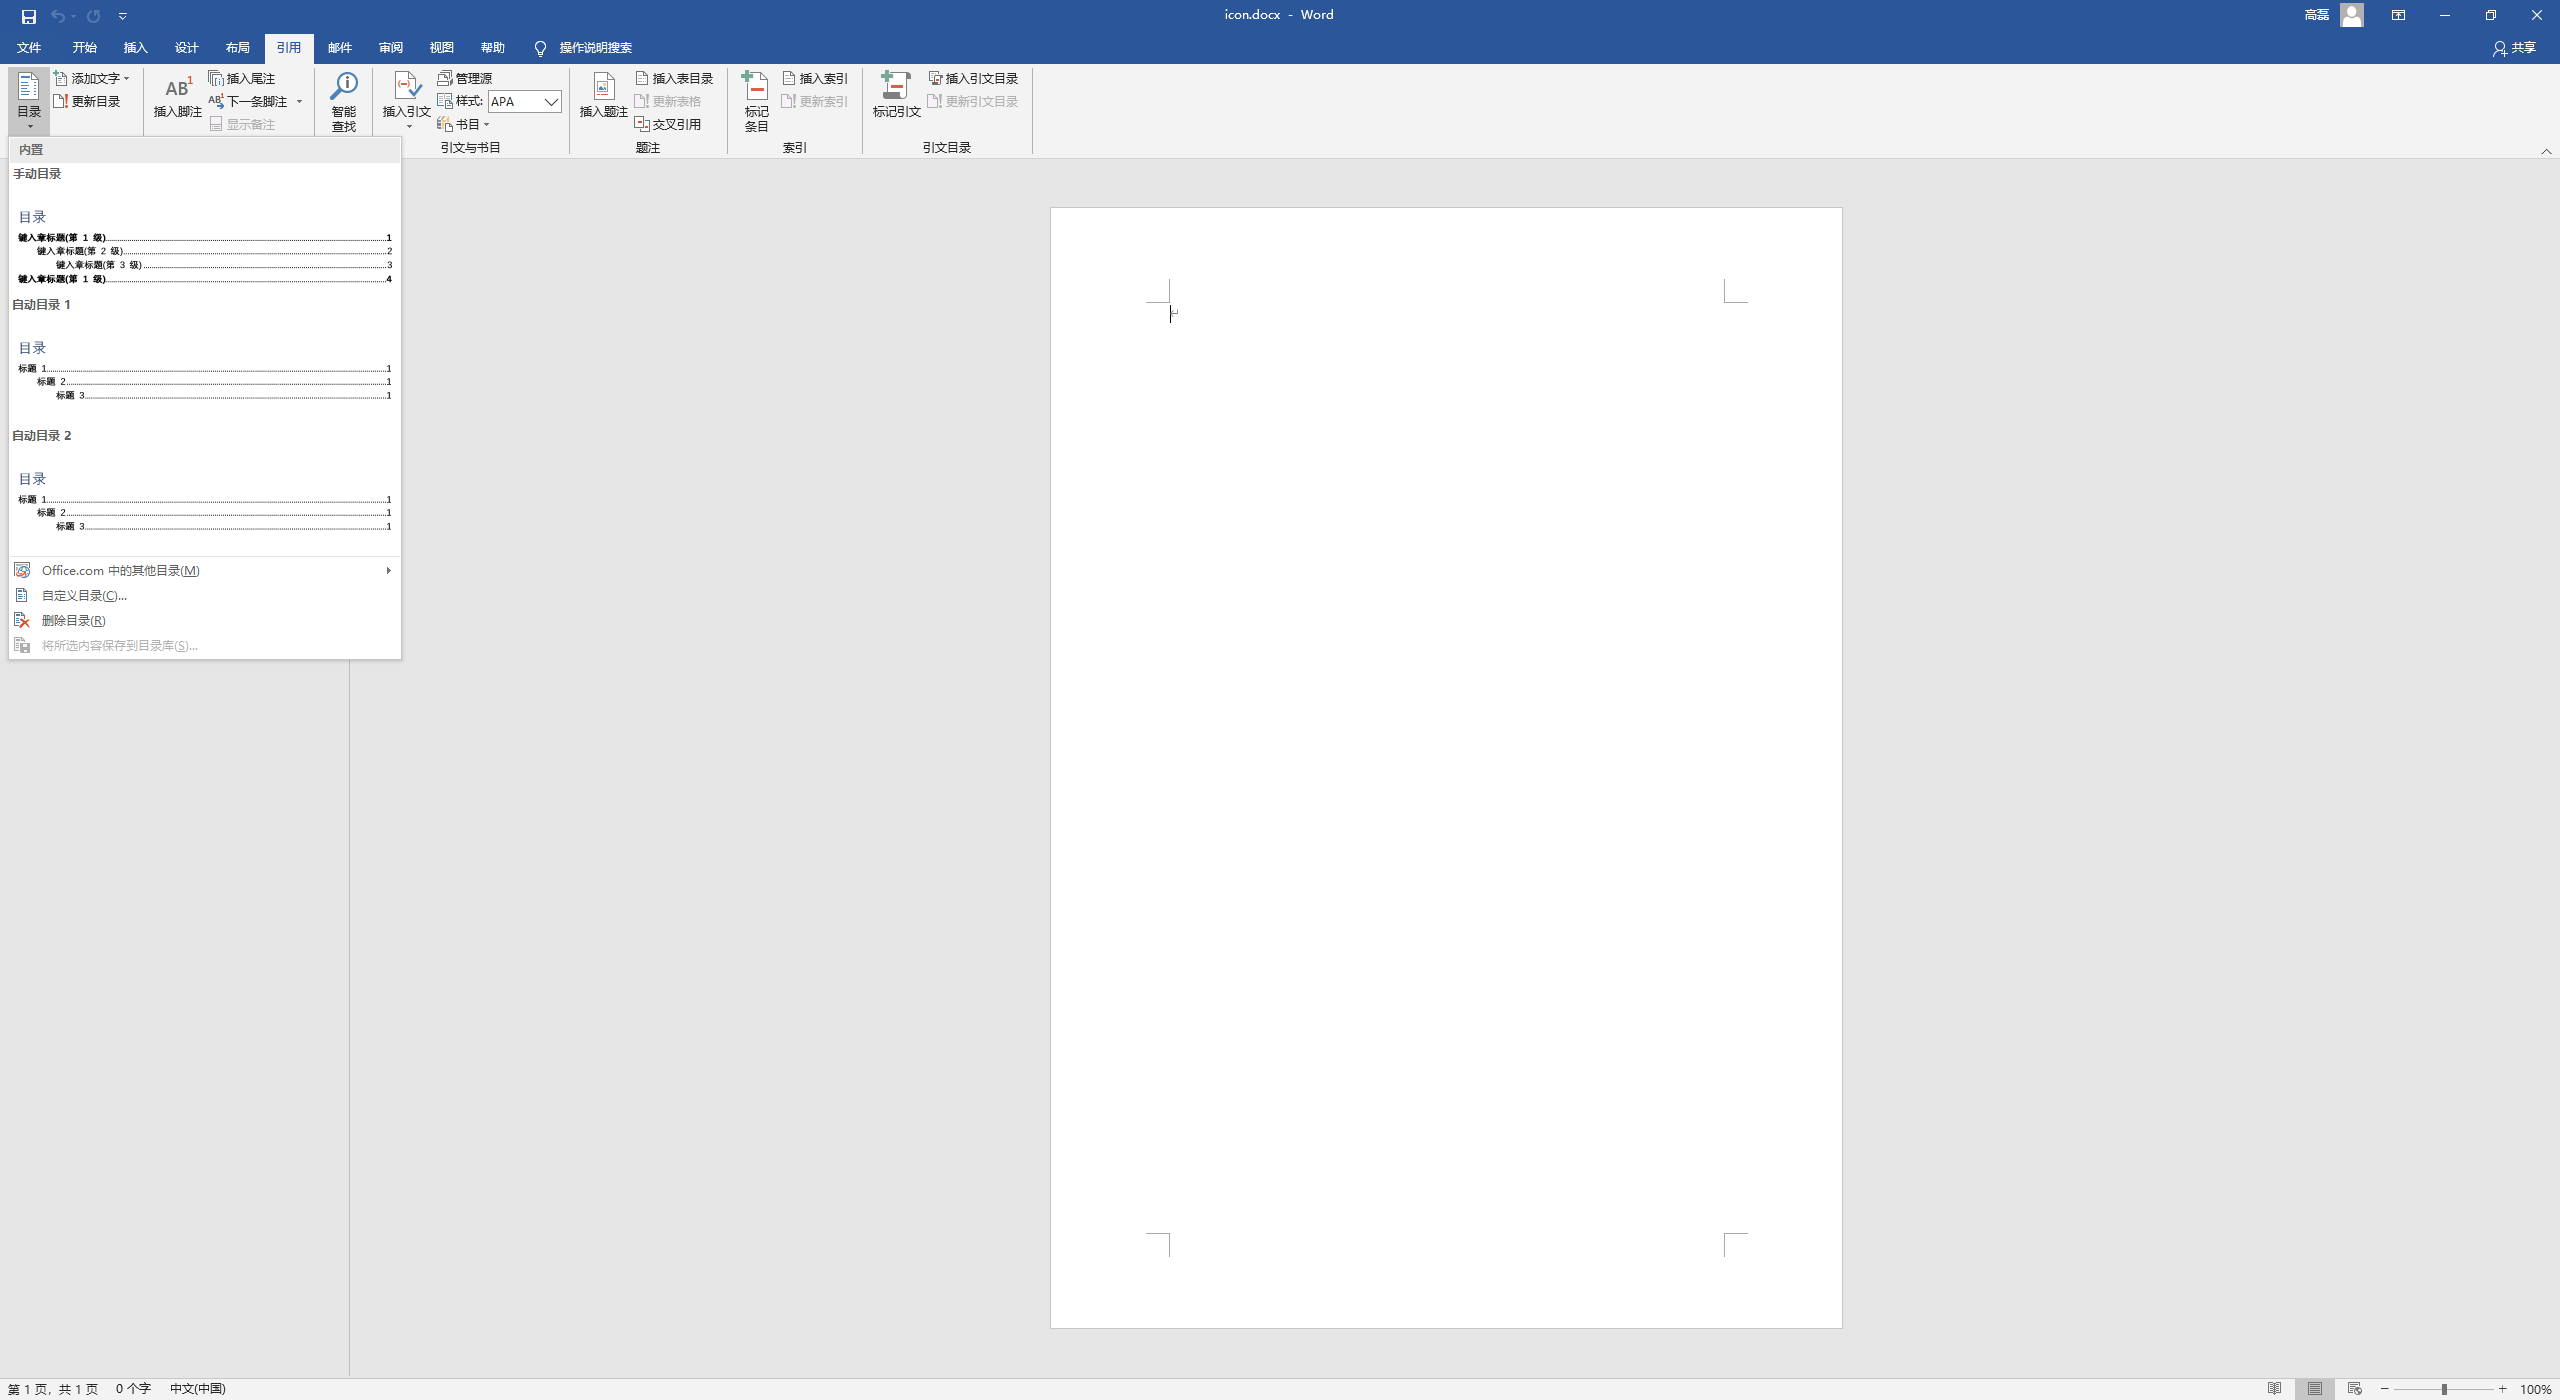character: (16, 471, 395, 536), (17, 233, 396, 286), (17, 362, 396, 405), (5, 1383, 240, 1397), (40, 562, 202, 579), (41, 636, 202, 653), (1222, 5, 1339, 22), (557, 36, 638, 59), (40, 586, 141, 603), (946, 69, 1019, 86), (41, 614, 116, 629), (10, 428, 72, 445), (10, 297, 71, 314), (653, 71, 715, 86), (800, 67, 850, 86), (869, 103, 922, 121), (226, 117, 279, 134), (10, 166, 64, 183), (228, 95, 286, 110), (921, 138, 972, 155), (946, 95, 1019, 107), (328, 105, 359, 133), (745, 103, 772, 134), (152, 103, 202, 119), (228, 71, 278, 86), (578, 103, 628, 119), (71, 71, 119, 86), (72, 93, 121, 109), (440, 141, 502, 153), (653, 117, 702, 133), (655, 95, 703, 109), (800, 95, 848, 109), (457, 71, 495, 86), (381, 105, 429, 117), (17, 209, 48, 226), (16, 340, 48, 355), (426, 40, 457, 55), (121, 38, 148, 55), (2303, 5, 2332, 21), (221, 40, 253, 53), (14, 41, 45, 55), (376, 40, 407, 53), (633, 140, 660, 155), (2520, 1383, 2551, 1397), (16, 141, 47, 155), (172, 40, 198, 55), (328, 40, 353, 55), (2512, 40, 2538, 55), (71, 40, 98, 53), (479, 40, 507, 53), (276, 40, 302, 53), (783, 140, 809, 153), (455, 95, 484, 107), (457, 117, 479, 133), (17, 105, 41, 117)
icon: (391, 67, 424, 100), (740, 67, 771, 102), (328, 71, 360, 102), (879, 69, 910, 102), (590, 69, 617, 102), (14, 71, 43, 100), (2339, 3, 2363, 26), (164, 78, 190, 97), (2263, 1379, 2289, 1397), (2339, 1379, 2363, 1397), (10, 610, 31, 629), (633, 114, 652, 133), (541, 91, 560, 110), (434, 114, 453, 133), (205, 69, 226, 86), (2305, 1379, 2326, 1397), (633, 91, 652, 109), (434, 91, 453, 109), (926, 91, 945, 109), (779, 91, 798, 109), (2491, 40, 2508, 59), (2527, 5, 2546, 22), (14, 560, 31, 579), (12, 636, 31, 653), (52, 69, 69, 86), (52, 91, 69, 109), (207, 91, 224, 109), (633, 69, 650, 86), (531, 40, 548, 57), (436, 69, 453, 86), (779, 69, 796, 86), (2482, 5, 2500, 22), (2389, 5, 2407, 22), (84, 9, 102, 24), (48, 9, 66, 24), (2439, 1381, 2455, 1398), (21, 9, 36, 24), (14, 586, 29, 602), (2377, 1379, 2393, 1395), (927, 71, 943, 84), (2436, 9, 2451, 22), (2494, 1383, 2510, 1397), (209, 116, 222, 129), (116, 9, 129, 22), (381, 564, 395, 578), (293, 95, 307, 107), (67, 9, 79, 22), (2539, 147, 2555, 157), (403, 117, 415, 129), (26, 121, 34, 136), (121, 72, 131, 84), (483, 117, 490, 129)
